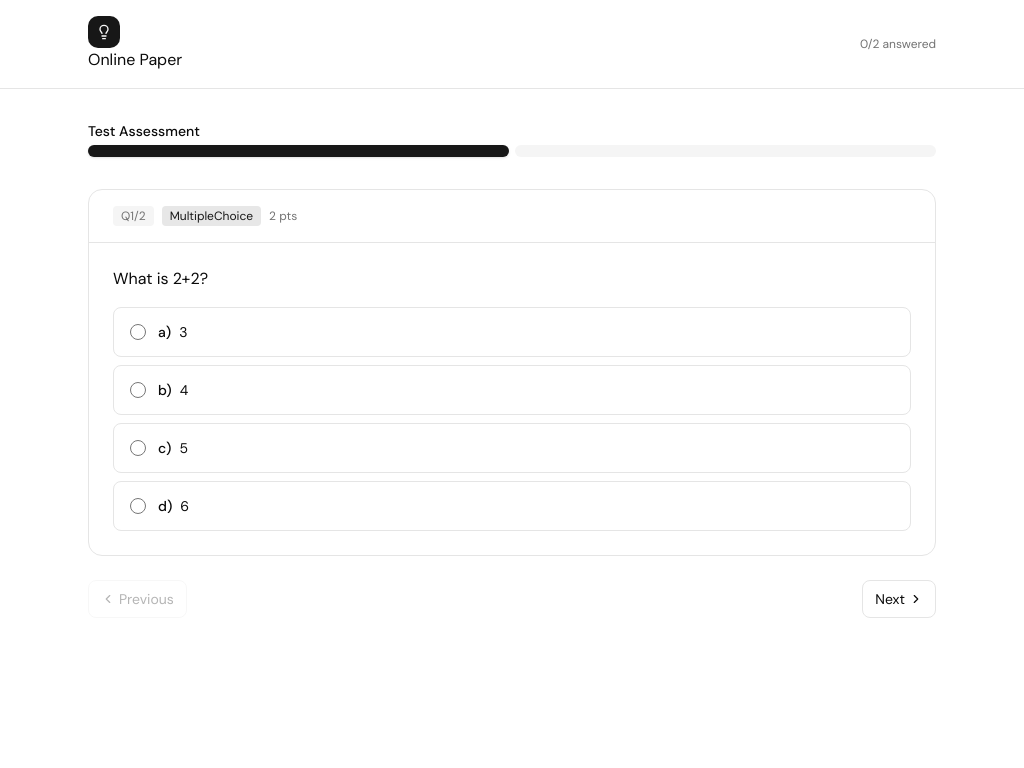
Test: timed assessment take page › a non-race submit error keeps the student on the take page
The width and height of the screenshot is (1024, 768).
Expected: the text "Test Assessment" is shown, left=88, top=122, right=200, bottom=140
Click the button "Next".
click(899, 599)  # box left=862, top=580, right=936, bottom=618
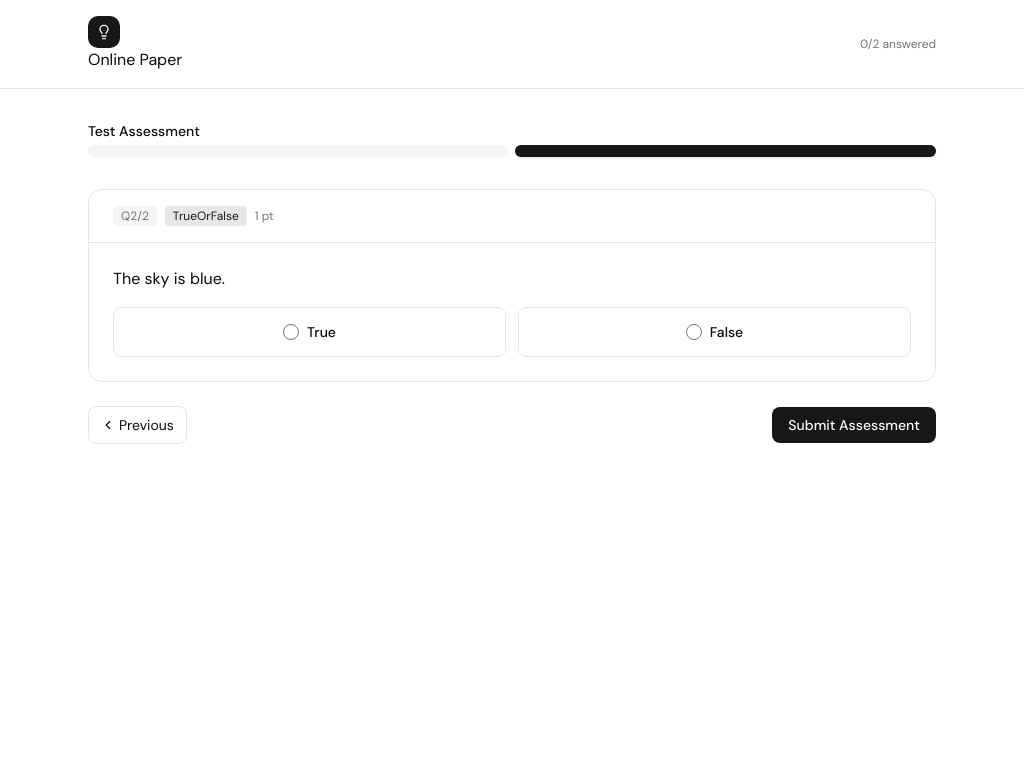
Click the button "Submit Assessment".
click(854, 425)  # box left=772, top=407, right=936, bottom=443
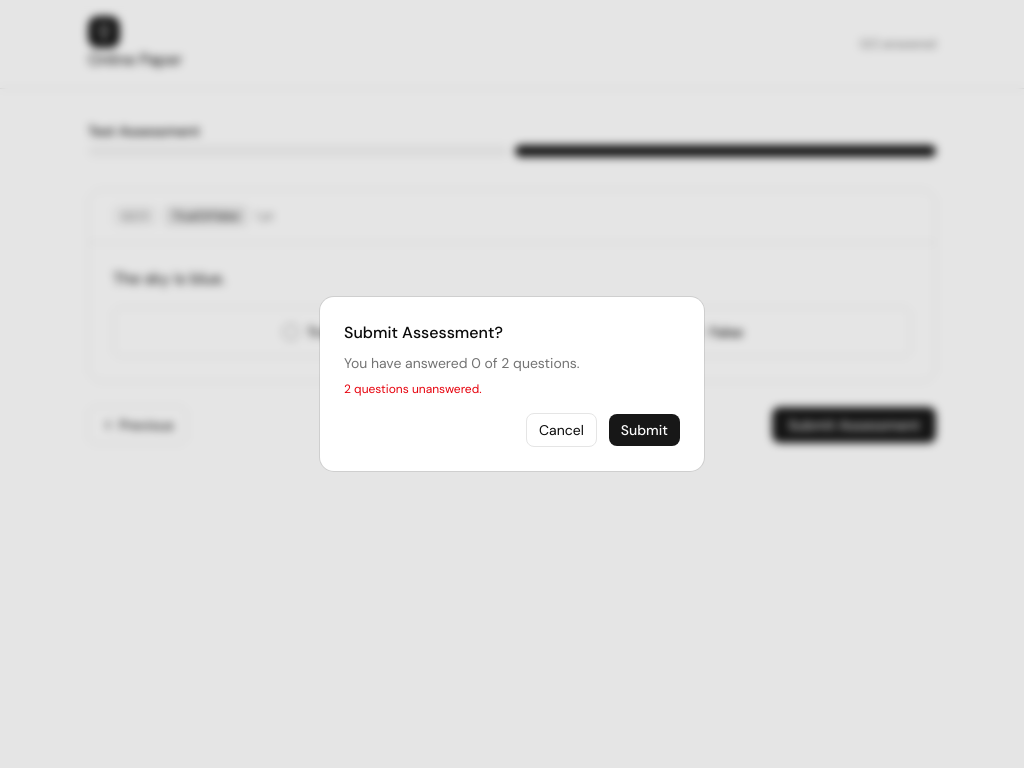
Now the text "2 questions unanswered." is shown, box left=344, top=381, right=482, bottom=397
Click the button "Submit".
click(644, 430)  # box left=609, top=414, right=680, bottom=446
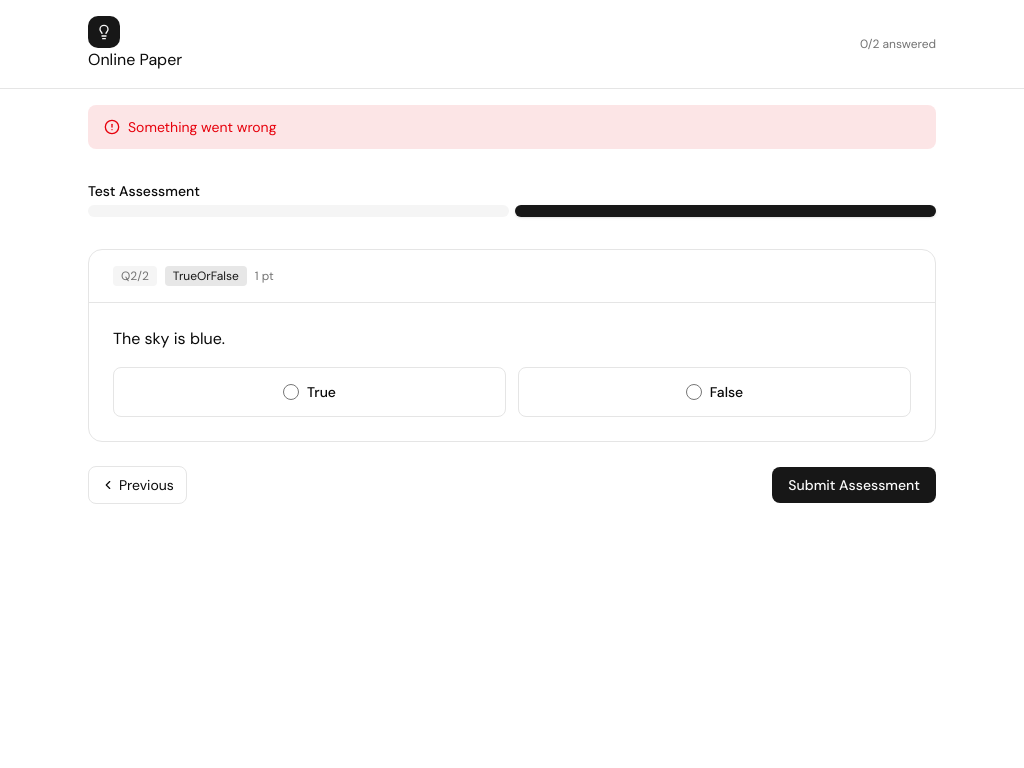
Now the button "Submit Assessment" is shown, box left=772, top=467, right=936, bottom=503
Now the text "Something went wrong" is shown, box left=128, top=117, right=276, bottom=137
